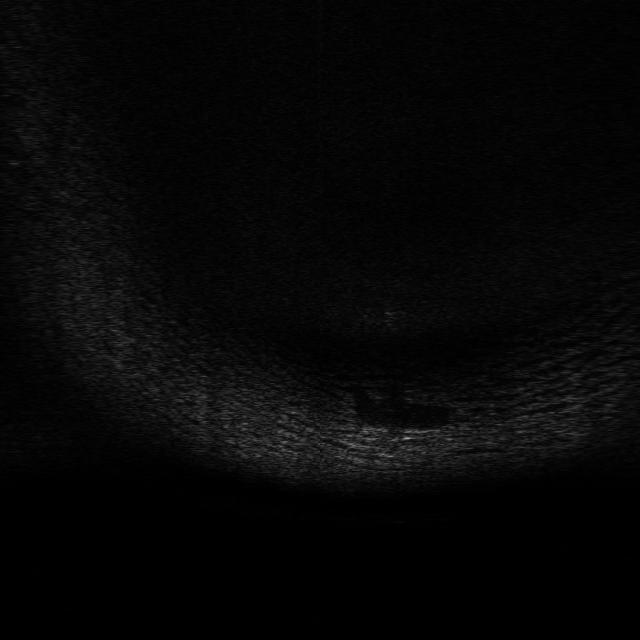plane: (358, 420, 446, 442)
